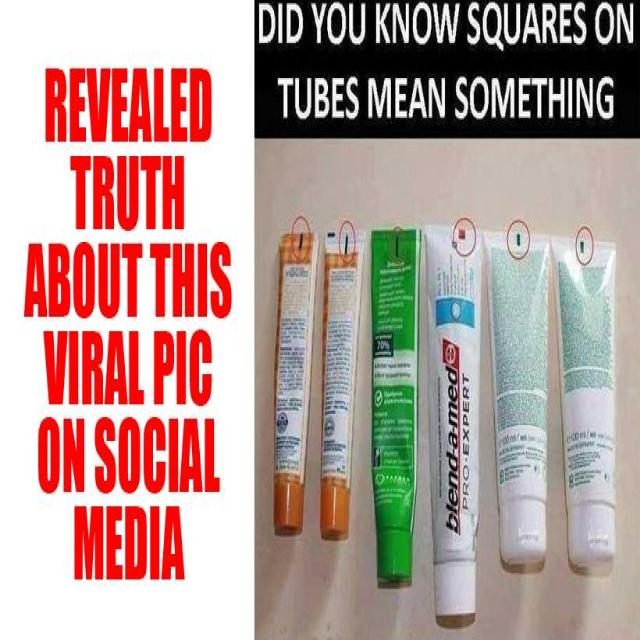toothpaste: (422, 219, 496, 625), (549, 237, 627, 577), (488, 218, 558, 576), (371, 215, 420, 606), (322, 226, 371, 558), (270, 208, 310, 538)
